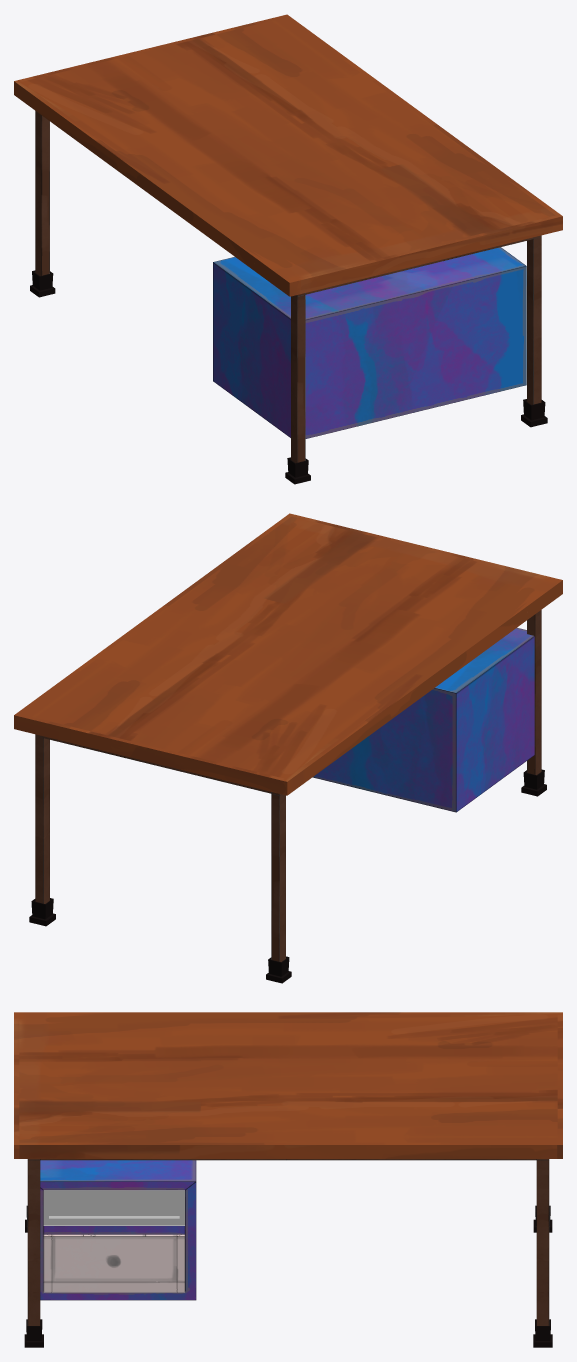
File: Table.obj
3 views of the same model, one above another, from view 1: azimuth 30°, elevation 25°; view 2: azimuth 150°, elevation 25°; view 3: azimuth 270°, elevation 25° (orthographic).
Visible parts, largest first — view 1: Cube, Cube.002, Cube.004, Cube.001, Cube.003; view 2: Cube, Cube.002, Cube.004, Cube.001, Cube.003; view 3: Cube, Cube.004, Cube.002, Boolaen_big, Cube.001, Booleansmall, Cube.003.
Boxes of the visible parts, x1=… form: Cube: x1=22, y1=17, x2=555, y2=279; Cube.002: x1=213, y1=247, x2=526, y2=438; Cube.004: x1=14, y1=14, x2=562, y2=296; Cube.001: x1=35, y1=111, x2=541, y2=462; Cube.003: x1=30, y1=270, x2=547, y2=484; Cube: x1=21, y1=516, x2=554, y2=778; Cube.002: x1=312, y1=628, x2=534, y2=812; Cube.004: x1=14, y1=513, x2=562, y2=795; Cube.001: x1=35, y1=610, x2=541, y2=961; Cube.003: x1=29, y1=769, x2=546, y2=983; Cube: x1=19, y1=1014, x2=557, y2=1142; Cube.004: x1=14, y1=1012, x2=562, y2=1158; Cube.002: x1=40, y1=1160, x2=196, y2=1300; Boolaen_big: x1=43, y1=1234, x2=184, y2=1292; Cube.001: x1=27, y1=1159, x2=549, y2=1325; Booleansmall: x1=43, y1=1190, x2=184, y2=1225; Cube.003: x1=24, y1=1205, x2=552, y2=1347.
Bounding box in the file's own units: 2.07 × 1.51 × 3.62.
